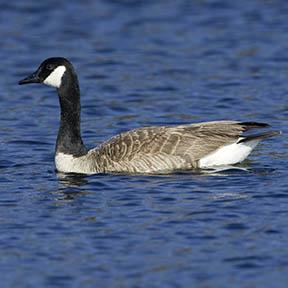Canadian-Goose: (19, 55, 282, 174)
